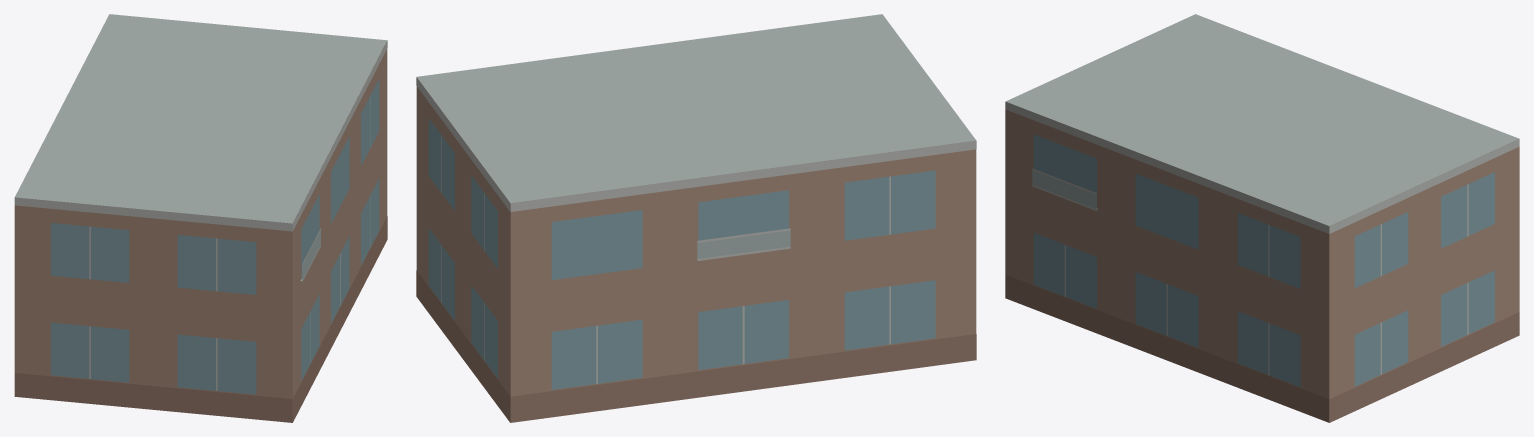
File: survey-upis-32712073.glb
The picture shows the model from 3 angles, left to right: view 1: azimuth 30°, elevation 25°; view 2: azimuth 150°, elevation 25°; view 3: azimuth 270°, elevation 25°; orthographic projection. The views are drawn at different scales.
Visible parts, largest first — view 1: survey-upis-32712073.tmp; view 2: survey-upis-32712073.tmp; view 3: survey-upis-32712073.tmp.
Boxes of the visible parts, x1=… form: survey-upis-32712073.tmp: x1=14, y1=14, x2=387, y2=422; survey-upis-32712073.tmp: x1=416, y1=14, x2=976, y2=422; survey-upis-32712073.tmp: x1=1005, y1=14, x2=1519, y2=422.
Size of the model in its own units: 14.12 by 6.1 by 14.46.
